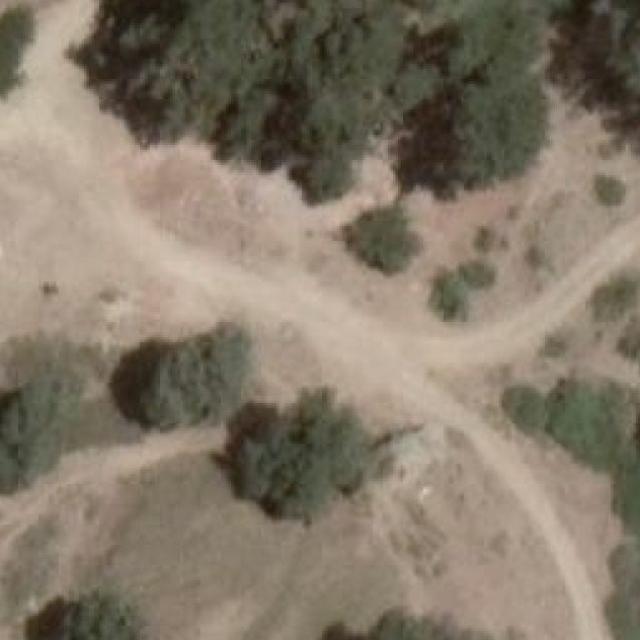Tree: (388, 74, 548, 203), (220, 393, 378, 514), (550, 0, 640, 142), (130, 325, 244, 429), (547, 369, 640, 464), (0, 375, 69, 494), (20, 592, 135, 640), (316, 612, 461, 640), (352, 208, 417, 266), (497, 381, 548, 434), (609, 449, 640, 523), (588, 279, 634, 327), (428, 271, 462, 317), (590, 170, 626, 209), (457, 258, 492, 287)
